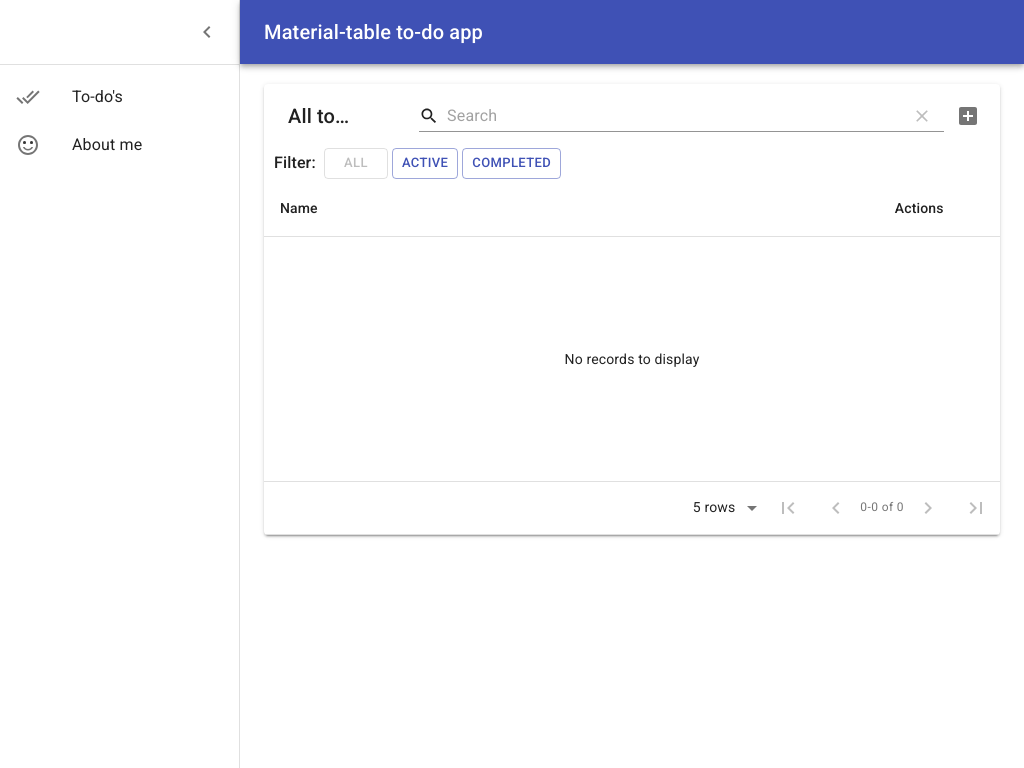
Test: can initialize a todo
Click the button titled "Add" at (968, 116), box [944,92,992,140]
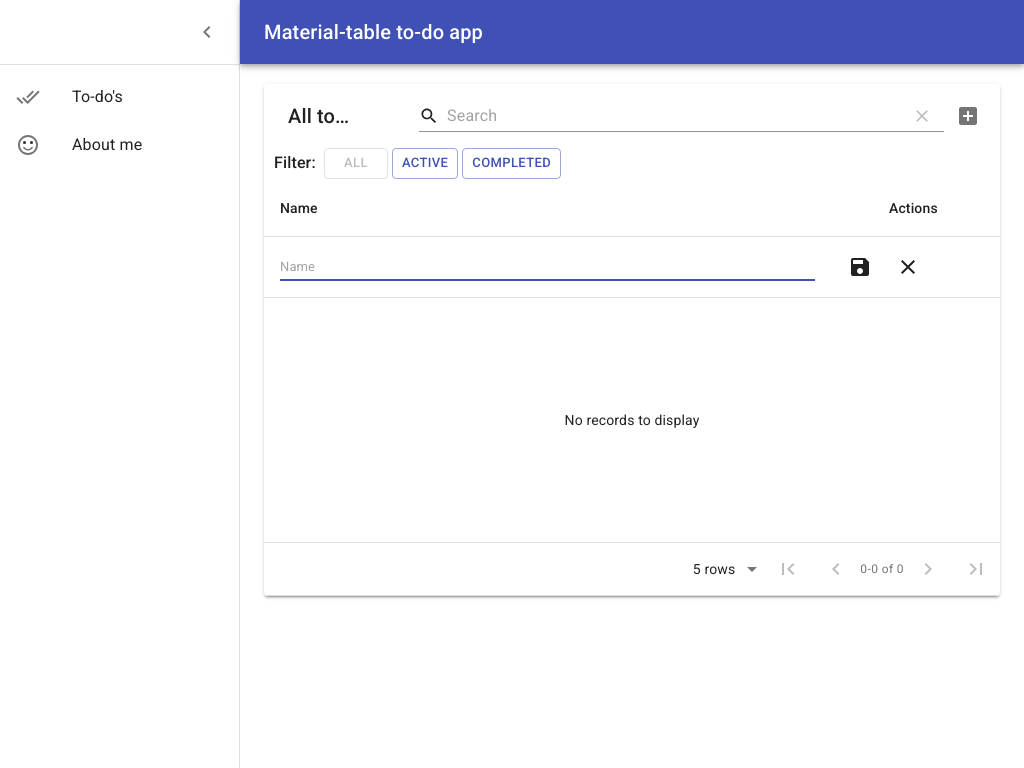
Result: the field with placeholder "Name" is shown at [280,253,815,281]
